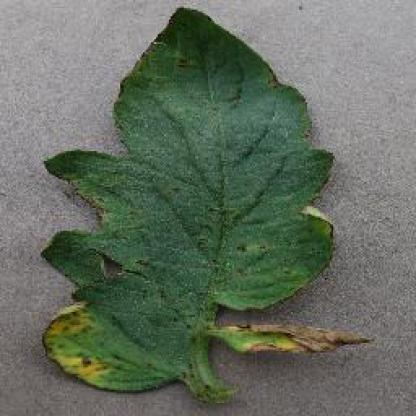bad leaf: (36, 8, 362, 414)
